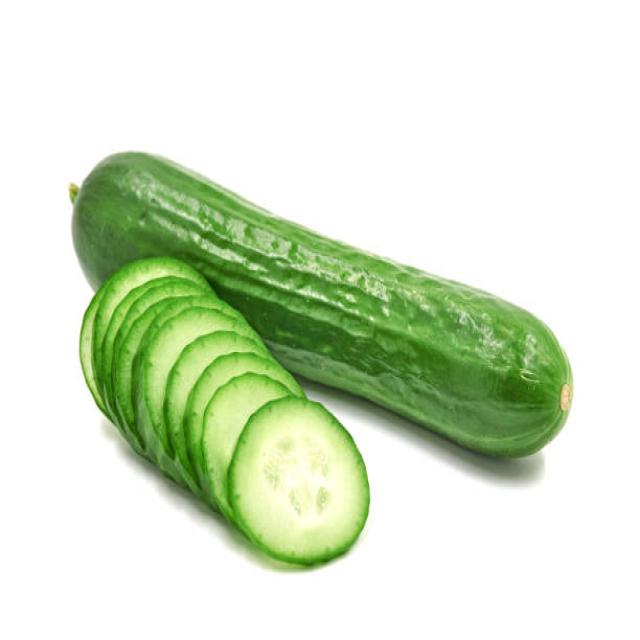cucumber: (71, 150, 575, 458)
